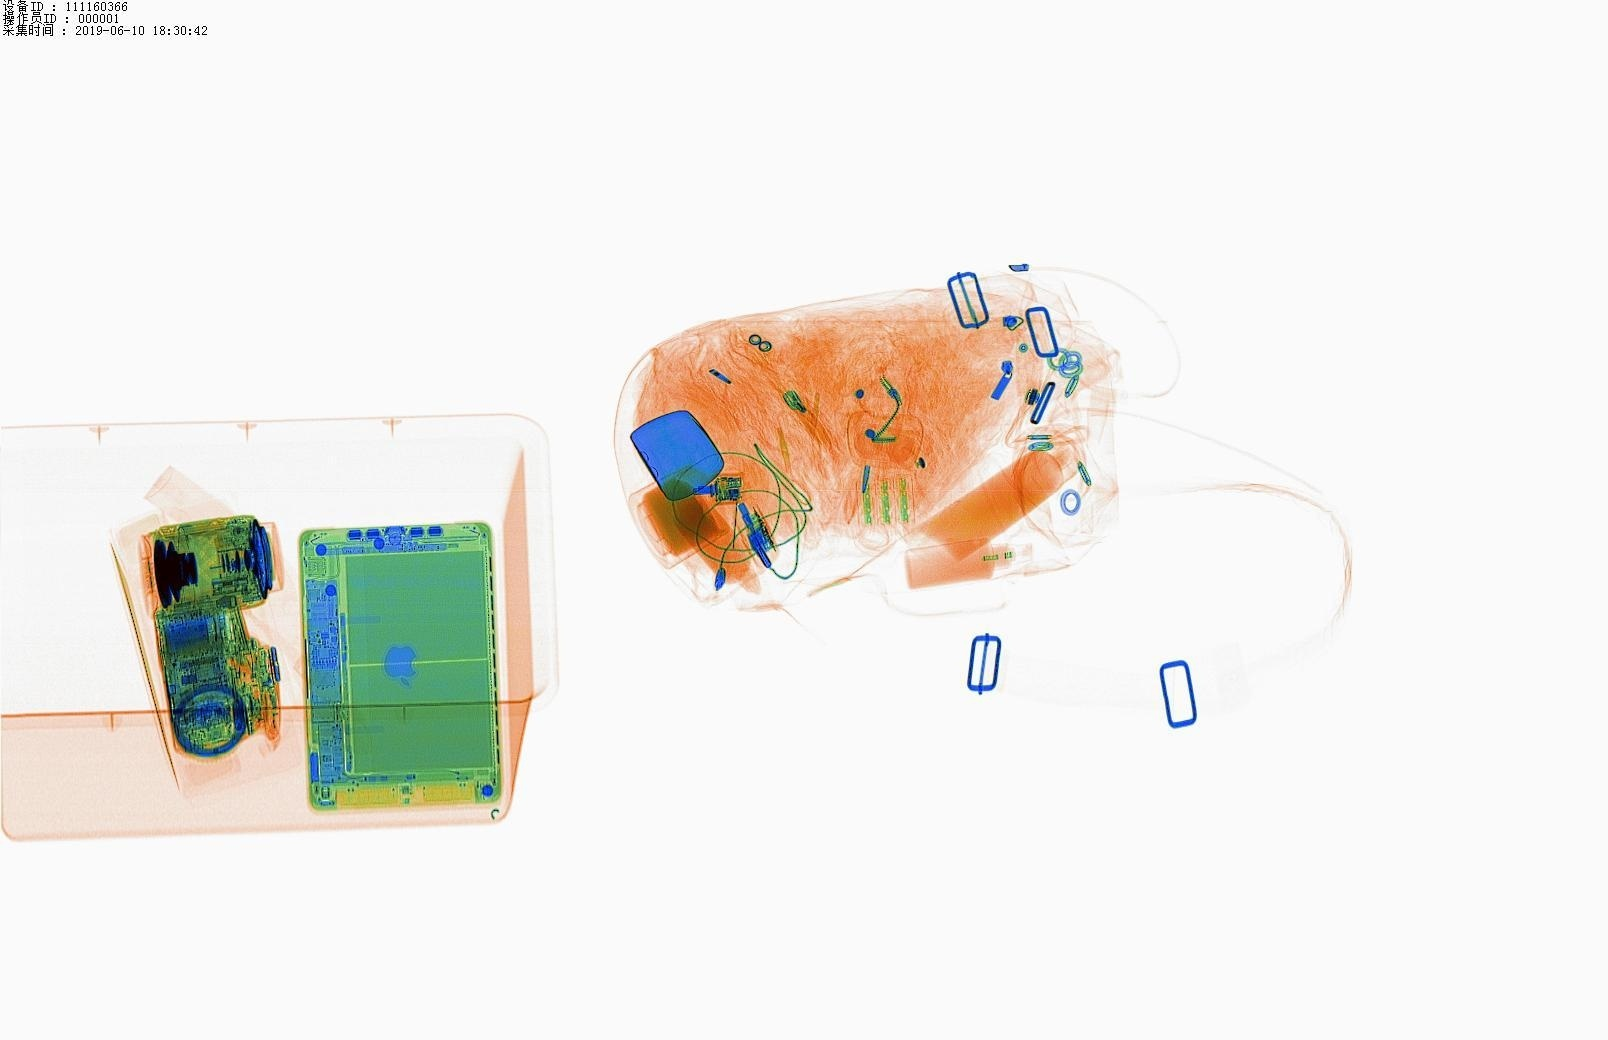NonmetallicFire: (763, 362, 851, 458)
